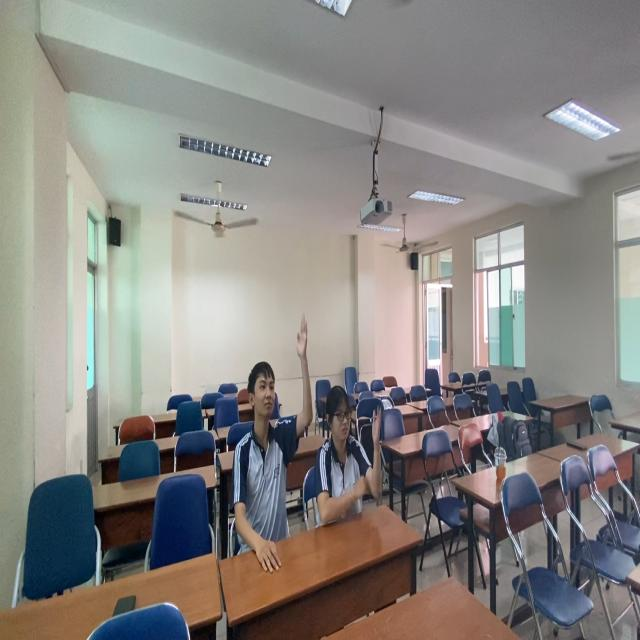raise_hand: (228, 307, 314, 568), (316, 374, 386, 538)
